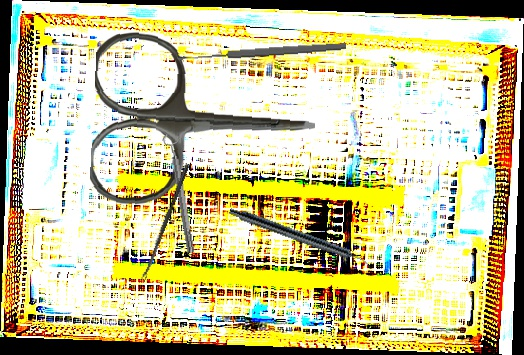Fixation Ring: (161, 132, 200, 255)
Handpiece: (227, 205, 375, 271)
Iris Scissors: (88, 29, 320, 215)
Surgical Spoon: (140, 162, 190, 283), (177, 41, 347, 63)
